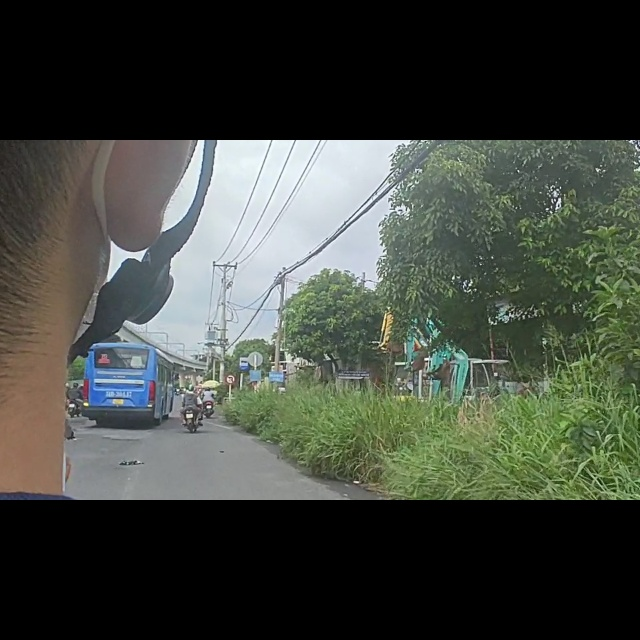bien_cam: (238, 383, 251, 411), (226, 416, 235, 435)
